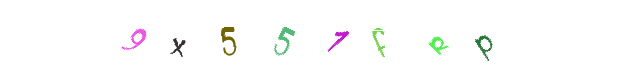1: (294, 0, 374, 80)
5: (275, 0, 355, 80), (276, 0, 356, 80)
9: (129, 0, 209, 80)
F: (296, 0, 376, 80)
P: (374, 0, 454, 80)
R: (300, 0, 380, 80)
X: (188, 0, 268, 80)
